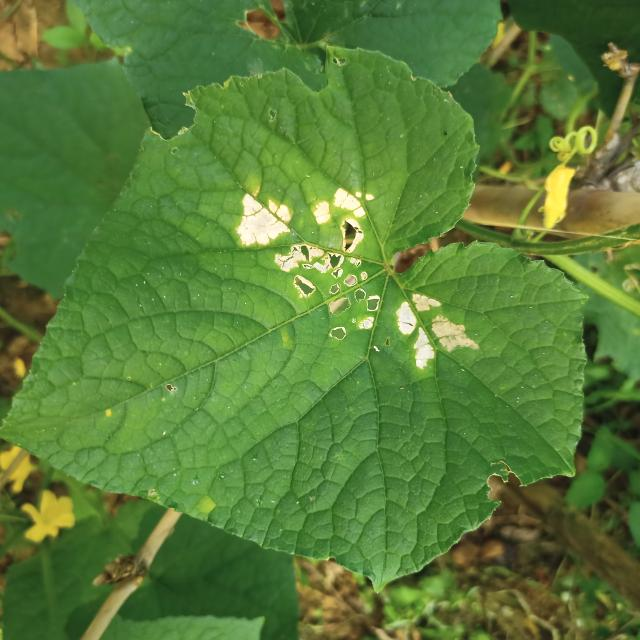disease_cucumber: (230, 179, 388, 345), (389, 286, 482, 372)
